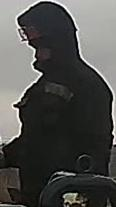helmet: (16, 18, 47, 44)
vest: (16, 65, 114, 205)
